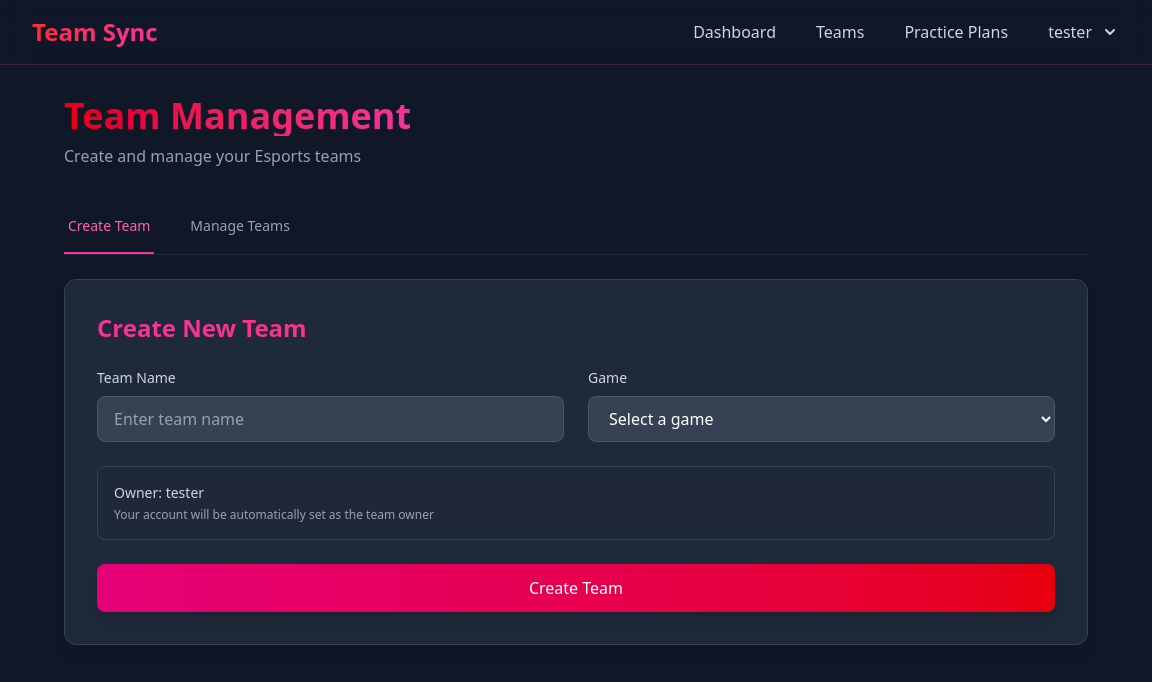
Test: Team creation and deletion › can create and delete a team
The image size is (1152, 682).
In the field with test id "team-name": coordinates (331, 419) [97, 396, 564, 442], type "Test Team"
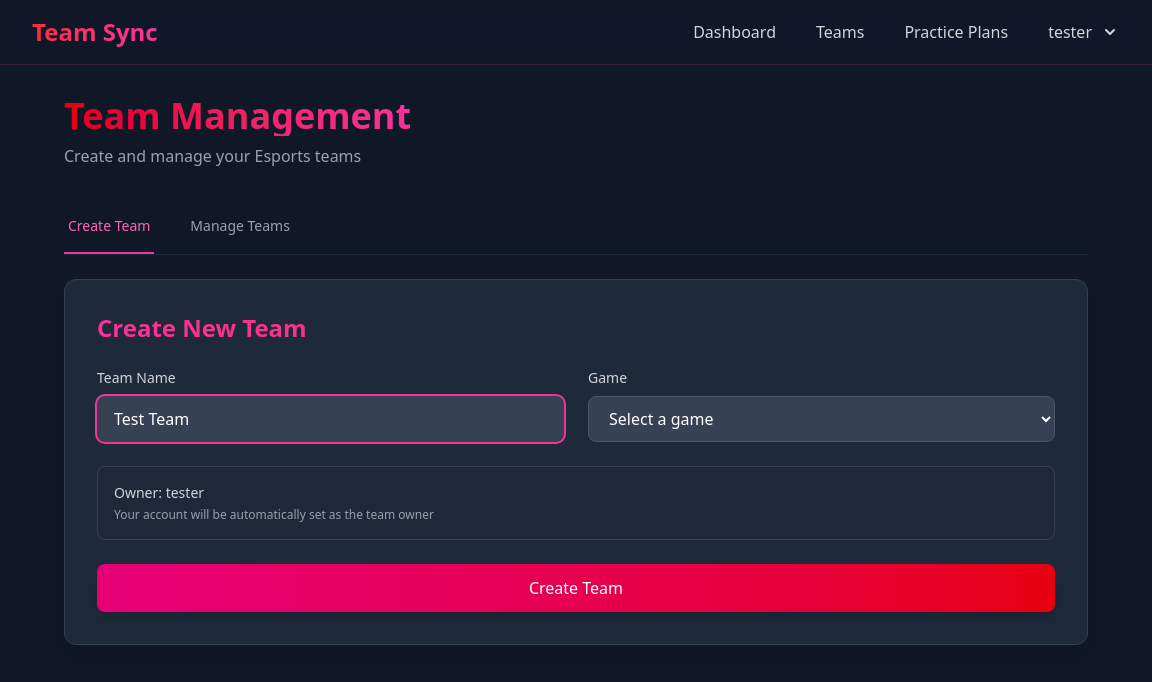
Select "Valorant" in the dropdown with test id "game-name": coordinates (822, 419) [588, 396, 1055, 442]
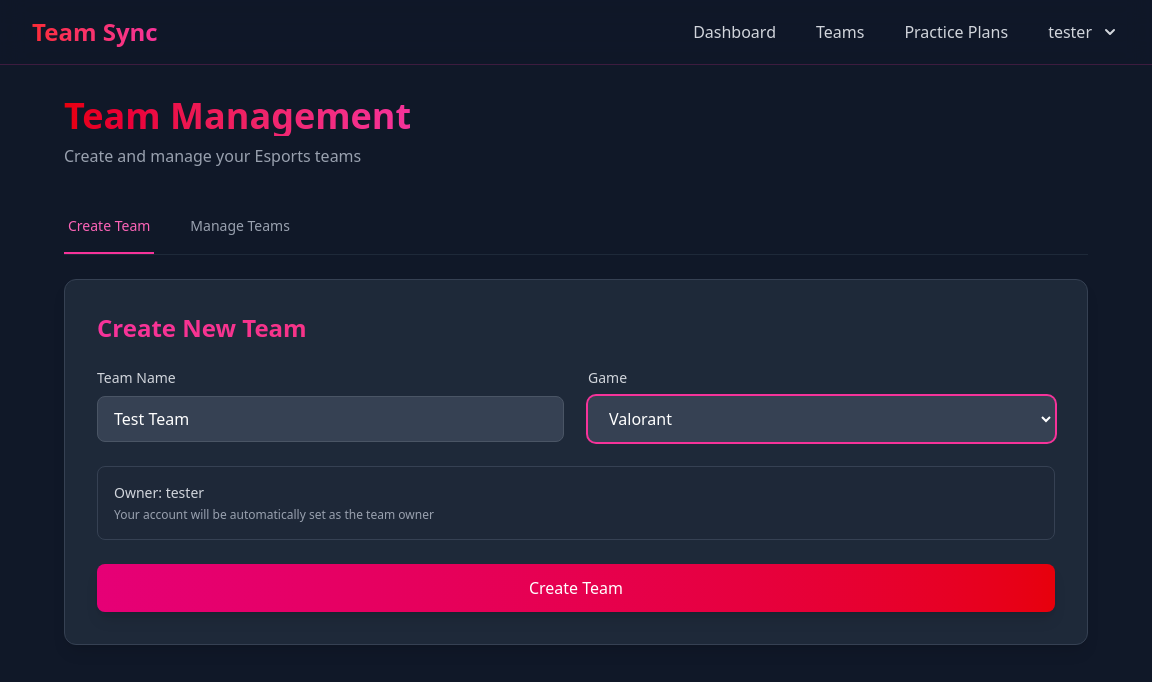
Click the button with test id "create-team-btn": coordinates (576, 588) [97, 564, 1055, 612]
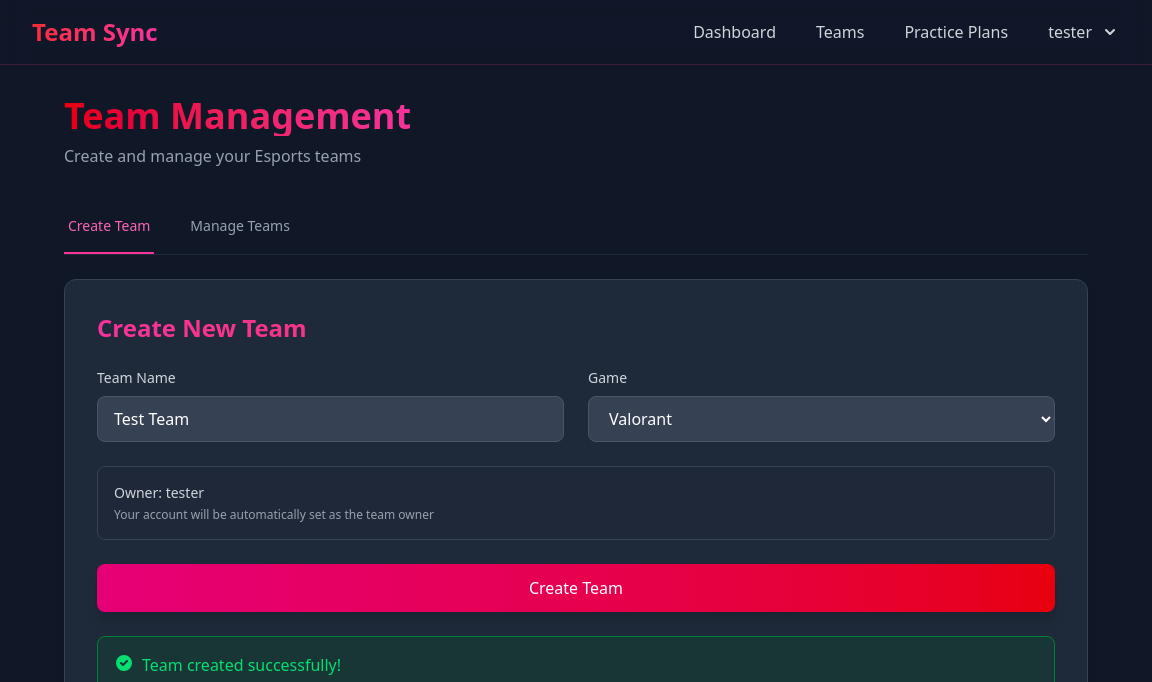
Now the text "Team created successfully!" is shown, box [142, 653, 341, 677]
Click the button "Manage Teams": coordinates (240, 227) [186, 200, 294, 254]
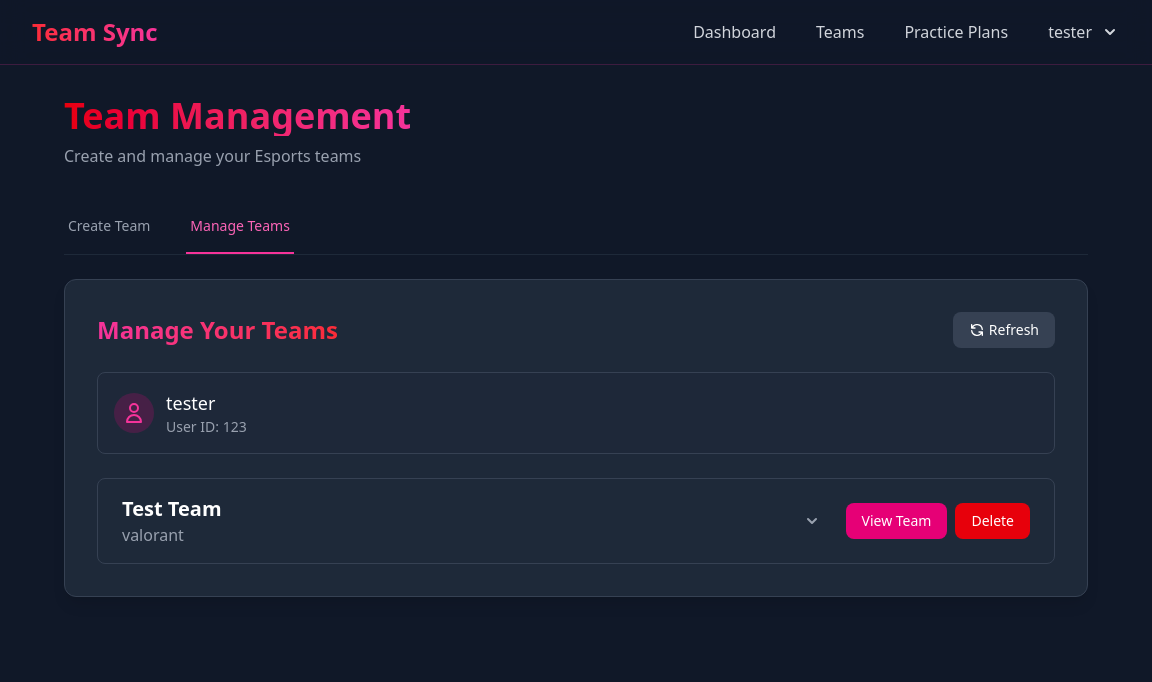
Now the heading "Test Team" is shown, box [122, 495, 222, 523]
Click the button with test id "delete-team-btn": coordinates (993, 521) [955, 503, 1030, 539]
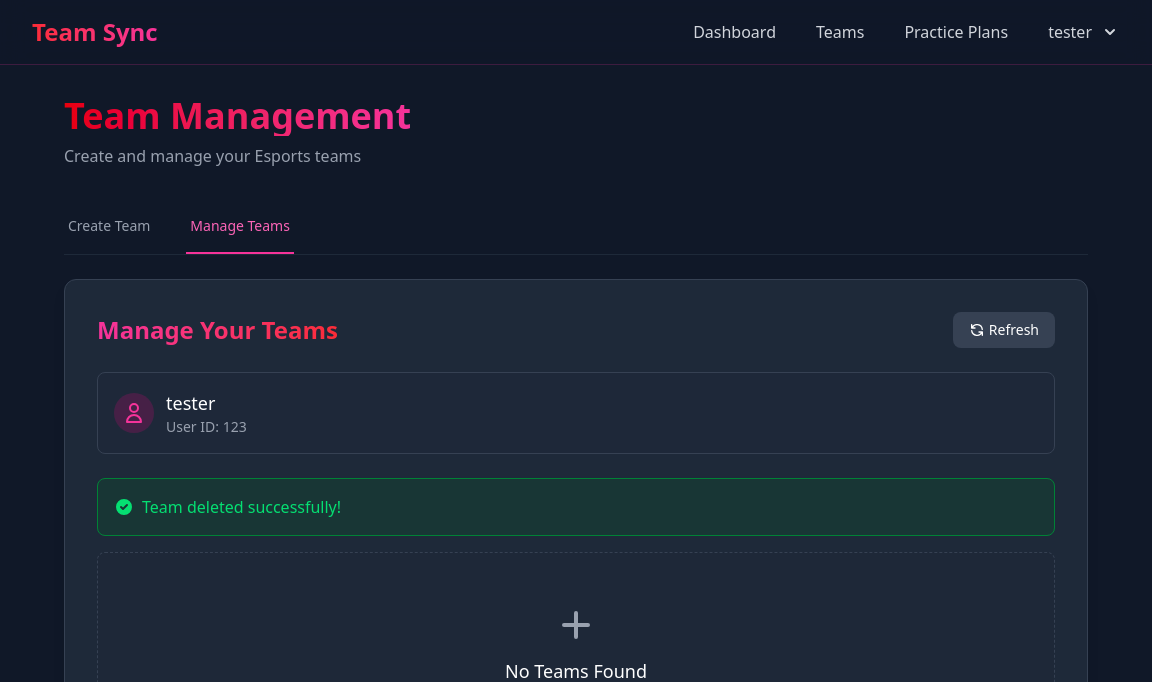
Now the text "Team deleted successfully!" is shown, box [97, 478, 1055, 536]
